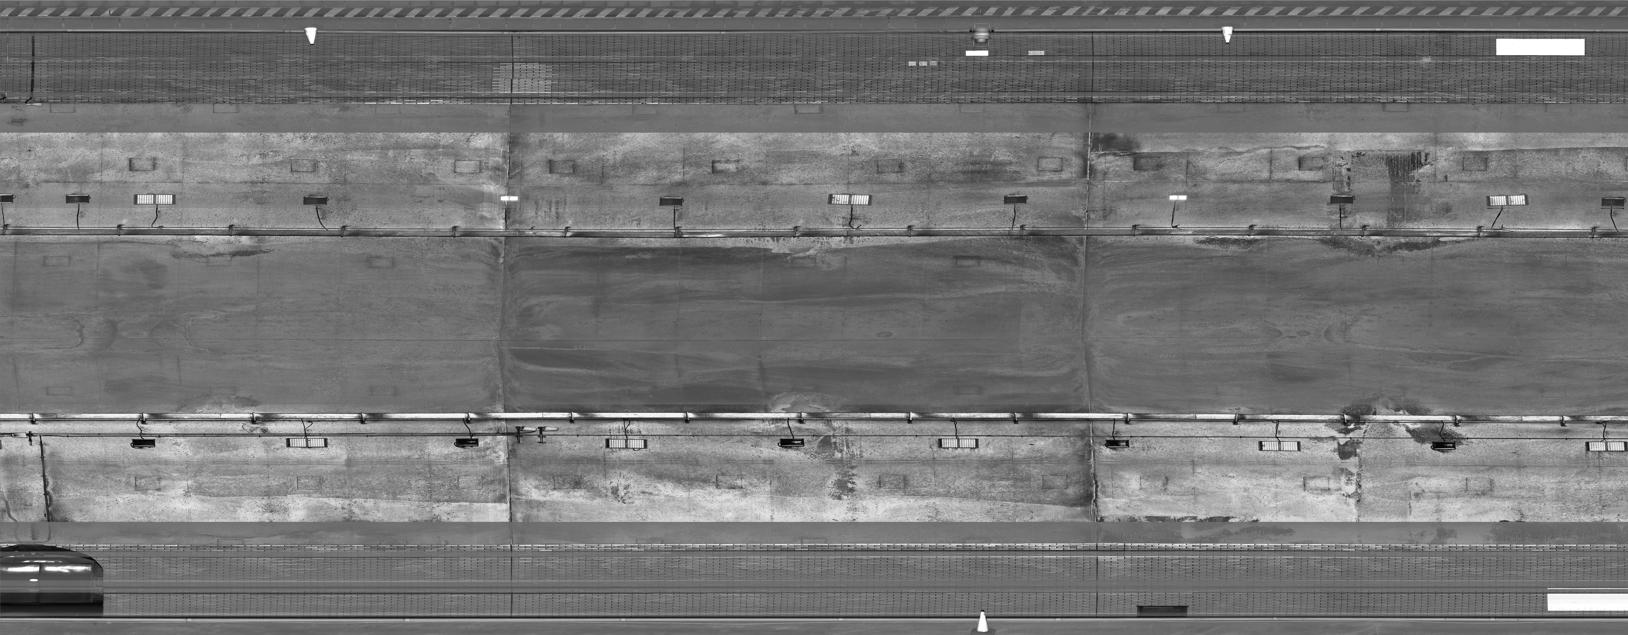light: (282, 432, 332, 450), (601, 434, 651, 452), (932, 433, 982, 451), (1253, 436, 1303, 454), (1578, 436, 1628, 454), (1480, 192, 1530, 210), (823, 190, 873, 208), (130, 190, 177, 208), (60, 191, 94, 206), (127, 435, 161, 450), (449, 434, 483, 449), (774, 434, 808, 449), (998, 190, 1032, 205), (1324, 192, 1358, 208), (1426, 438, 1460, 453), (1098, 436, 1132, 451), (298, 193, 332, 208), (654, 194, 688, 209), (1594, 194, 1628, 209), (493, 191, 523, 205), (1162, 192, 1194, 203)
